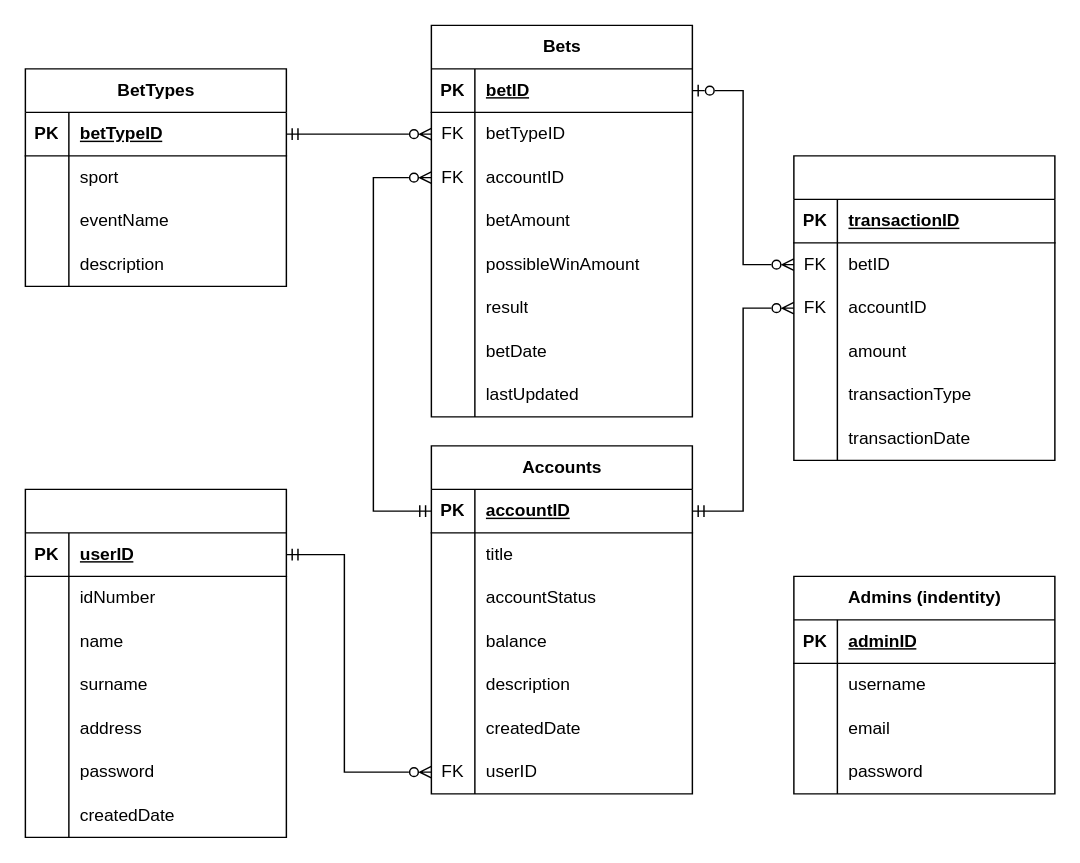
The diagram is 1080 pixels wide and 863 high, and some of its shapes have lost their labels. The shapes that lost their labels are listed below. From the top down, each one's box as (x1, y1, x2, y2) in pixels, then its label:
(792, 154, 1055, 460): Transactions
(24, 488, 286, 837): Users
